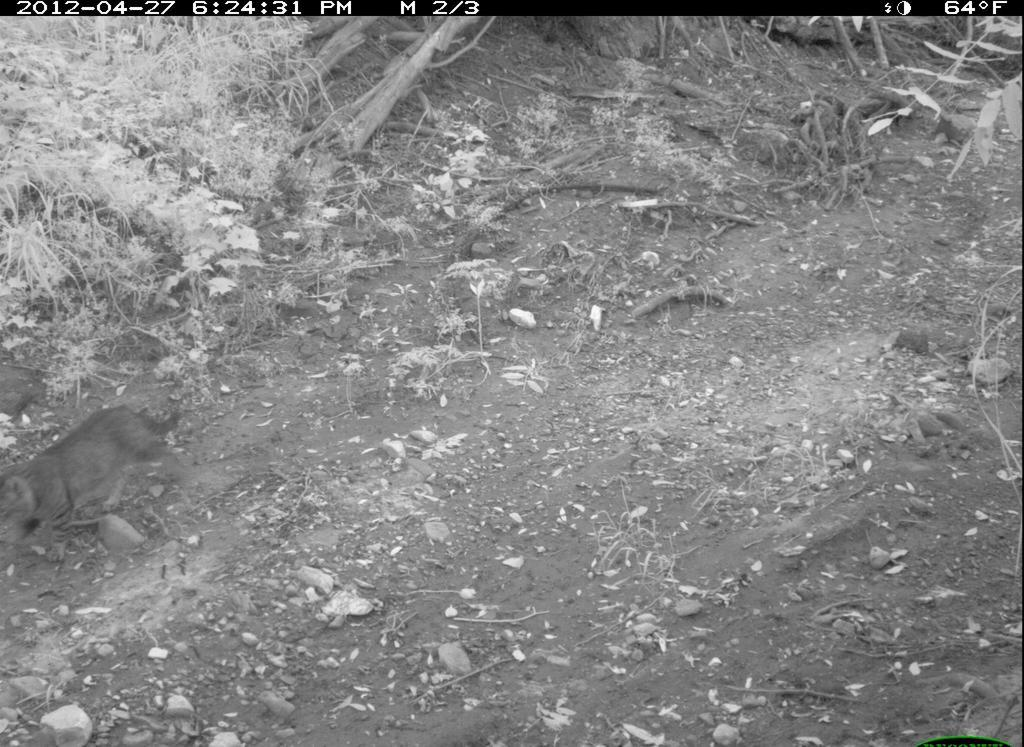cat: (1, 390, 214, 554)
